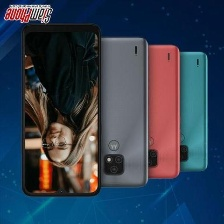phone: (19, 21, 104, 200), (81, 34, 150, 190), (125, 41, 181, 181), (155, 50, 210, 175)
